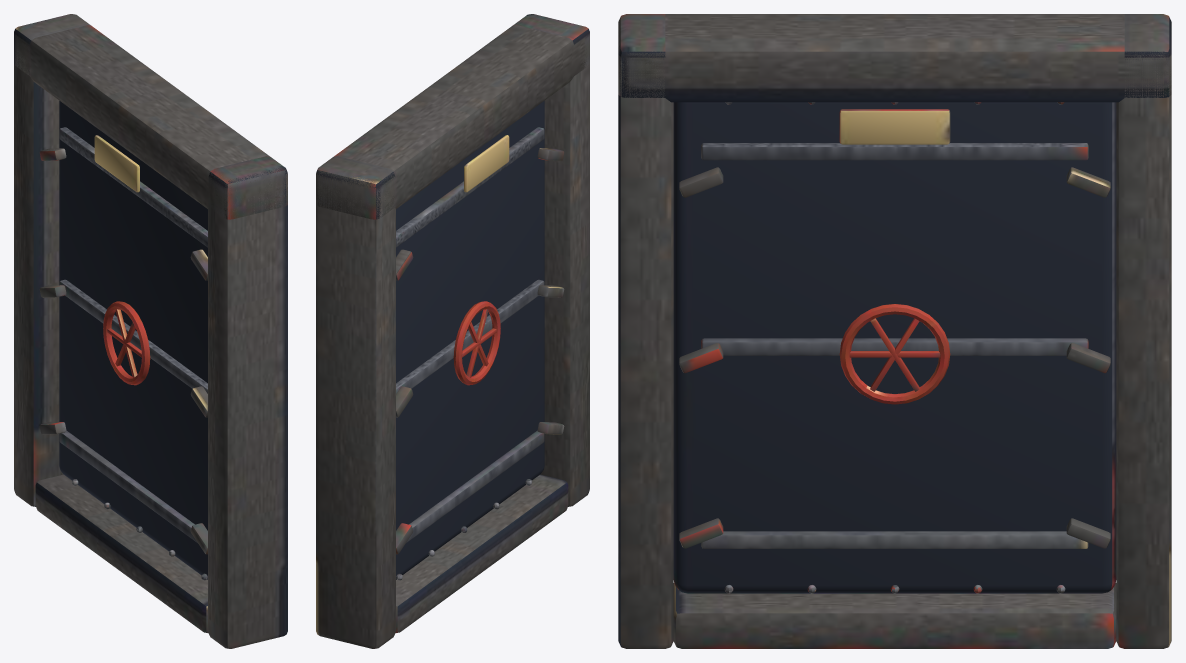
File: door_bulkhead.glb
3 renders of one model, left to right at view 1: azimuth 30°, elevation 25°; view 2: azimuth 150°, elevation 25°; view 3: azimuth 270°, elevation 25°, orthographic. The views are drawn at different scales.
Visible parts, largest first — view 1: leaf, post-0.9, head, post0.9, sill, stiffener-10.4, stiffener-11.95, stiffener-11.17, wheel-1, plate-1; view 2: leaf, post0.9, head, post-0.9, sill, stiffener-10.4, stiffener-11.95, stiffener-11.17, wheel-1, plate-1; view 3: leaf, head, post0.9, post-0.9, sill, stiffener11.95, stiffener10.4, stiffener11.17, plate1, wheel1, dog10, dog12 (+4 smaller).
Boxes of the visible parts, x1,y1,x2,y2 form: leaf: (59,101,207,579); post-0.9: (208,156,287,648); head: (14,25,287,219); post0.9: (14,14,90,506); sill: (35,474,208,633); stiffener-10.4: (59,430,197,542); stiffener-11.95: (59,127,207,247); stiffener-11.17: (59,279,207,393); wheel-1: (103,301,150,385); plate-1: (94,135,139,192); leaf: (396,101,544,579); post0.9: (316,156,395,648); head: (316,25,587,219); post-0.9: (513,14,589,506); sill: (395,474,568,633); stiffener-10.4: (406,430,544,542); stiffener-11.95: (396,127,544,247); stiffener-11.17: (396,279,544,393); wheel-1: (453,301,500,385); plate-1: (464,135,509,192); leaf: (673,102,1116,593); head: (618,14,1171,102); post0.9: (1116,14,1171,648); post-0.9: (618,14,673,648); sill: (673,582,1116,648); stiffener11.95: (701,143,1088,160); stiffener10.4: (701,531,1088,548); stiffener11.17: (701,338,1088,355); plate1: (839,109,950,144); wheel1: (839,304,950,404); dog10: (679,518,723,548); dog12: (679,167,723,197).
Bounding box in the file's own units: 0.38 × 2.4 × 2.
Materials: 1 (1 with a texture image).
